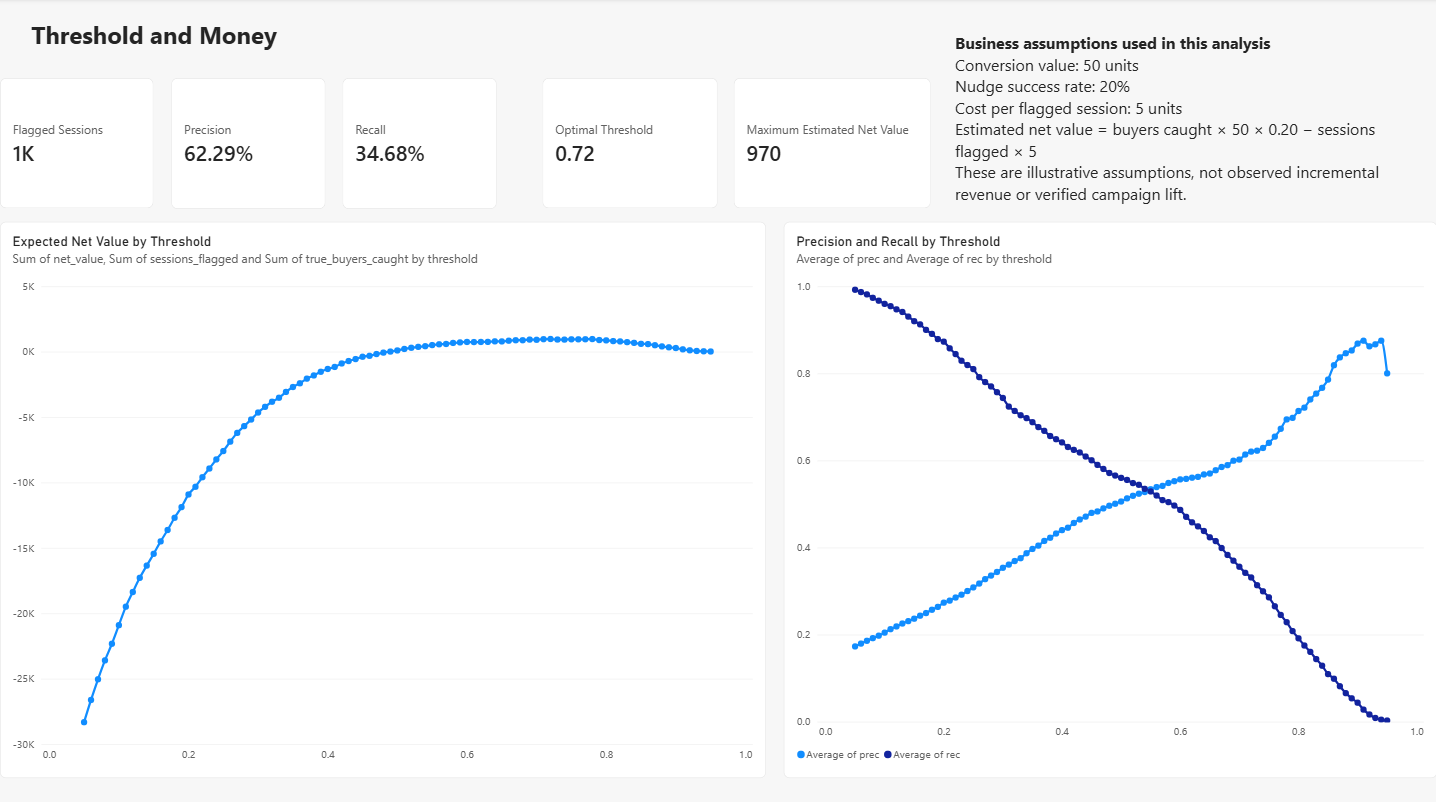

The page's visual inventory and layout, read from the dashboard file:
{"tool":"powerbi","page":{"name":"Threshold and Money","canvas":[1920,1080],"ordinal":3},"visuals":[{"type":"lineChart","title":"Expected Net Value by Threshold","fields":{"Category":["threshold_table.threshold"],"Y":["Sum(threshold_table.net_value)"]},"box":[0,298.5,1023,743.1],"z":0},{"type":"lineChart","title":"Precision and Recall by Threshold","fields":{"Category":["threshold_table.threshold"],"Y":["Avg(threshold_table.prec)","Avg(threshold_table.rec)"]},"box":[1047.7,298.5,872.7,743.1],"z":1000},{"type":"cardVisual","fields":{"Data":["v_sessions_enriched.Flagged Sessions"]},"box":[0,107,205.8,175],"z":2000},{"type":"cardVisual","fields":{"Data":["v_sessions_enriched.Precision"]},"box":[228.5,107,206,175],"z":3000},{"type":"cardVisual","fields":{"Data":["v_sessions_enriched.Recall"]},"box":[456.9,107,206,175],"z":4000},{"type":"cardVisual","fields":{"Data":["threshold_table.Optimal Threshold"]},"box":[724.5,107,234.6,175],"z":5000},{"type":"cardVisual","fields":{"Data":["threshold_table.Maximum Estimated Net Value"]},"box":[979.8,107,263.5,175],"z":6000},{"type":"textbox","box":[1276.2,45.3,605.1,253.2],"z":7000},{"type":"textbox","box":[0,8.2,411.7,72],"z":8000}]}

Visuals, with their boxes in screenshot pixels (x1, y1, x2, y2), scaled from the page's 1920x1080 canvas onto the 1436x802 screenshot:
"Expected Net Value by Threshold" lineChart: (left=0, top=222, right=765, bottom=773)
"Precision and Recall by Threshold" lineChart: (left=784, top=222, right=1435, bottom=773)
cardVisual - v_sessions_enriched.Flagged Sessions: (left=0, top=79, right=154, bottom=209)
cardVisual - v_sessions_enriched.Precision: (left=171, top=79, right=325, bottom=209)
cardVisual - v_sessions_enriched.Recall: (left=342, top=79, right=496, bottom=209)
cardVisual - threshold_table.Optimal Threshold: (left=542, top=79, right=717, bottom=209)
cardVisual - threshold_table.Maximum Estimated Net Value: (left=733, top=79, right=930, bottom=209)
textbox: (left=954, top=34, right=1407, bottom=222)
textbox: (left=0, top=6, right=308, bottom=60)
